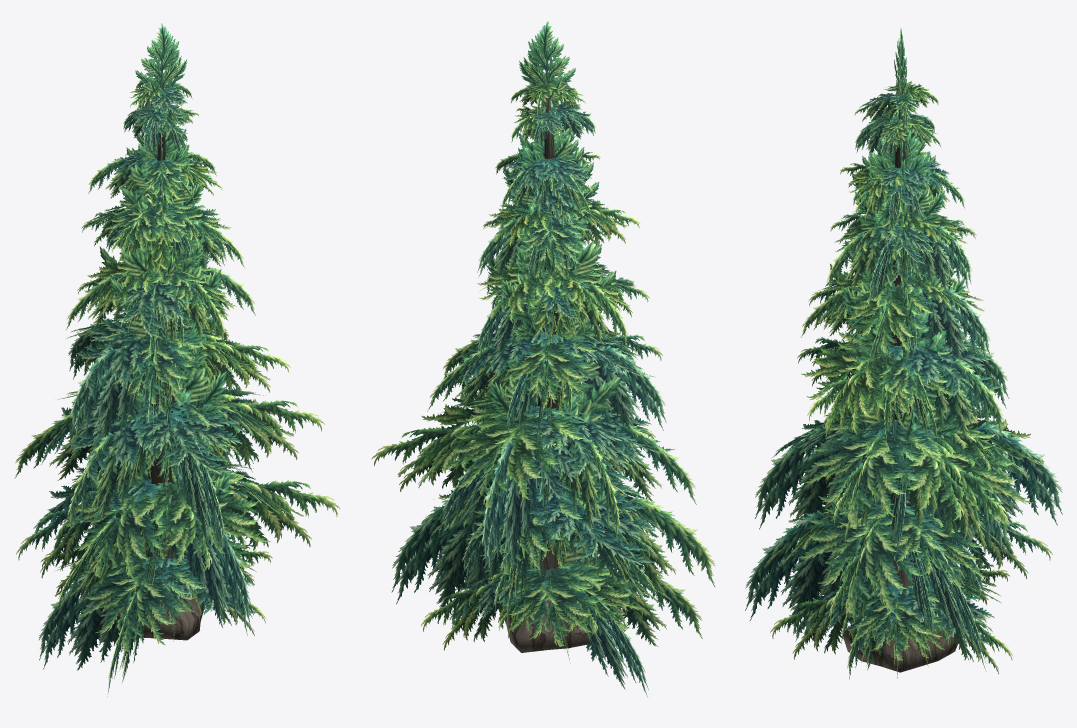
The model's file is tree_pine_full.glb.
The picture shows the model from 3 angles, left to right: view 1: azimuth 30°, elevation 25°; view 2: azimuth 150°, elevation 25°; view 3: azimuth 270°, elevation 25°; orthographic projection. The views are drawn at different scales.
Visible parts, largest first — view 1: tree_pine_full; view 2: tree_pine_full; view 3: tree_pine_full.
Part boxes in pixels (x1,y1,x2,y2): tree_pine_full: (14,23,340,696); tree_pine_full: (371,21,715,696); tree_pine_full: (745,27,1062,679).
Bounding box in the file's own units: 11.91 × 25.87 × 11.11.
2 materials, 2 textured.
